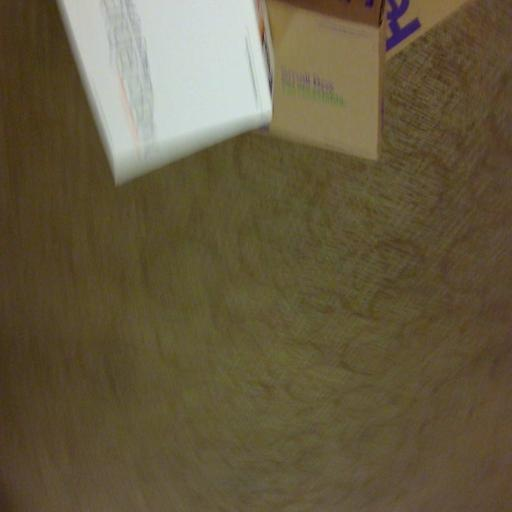Amazon: (381, 0, 456, 64)
